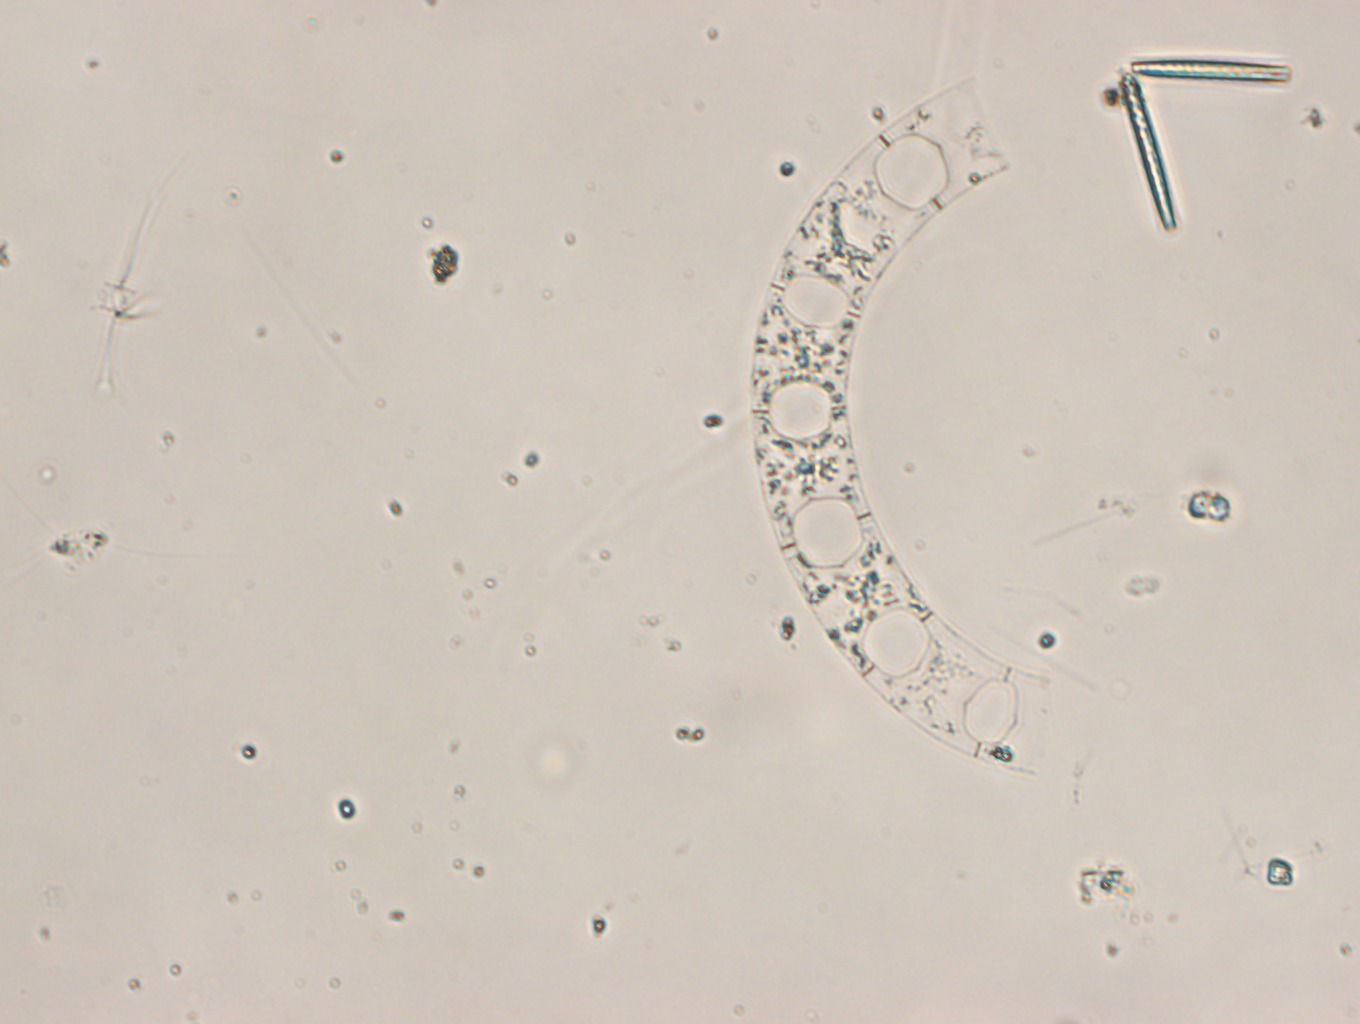eucampia: (750, 75, 1051, 778)
thalassionema nitzschioides: (1122, 60, 1292, 232)
